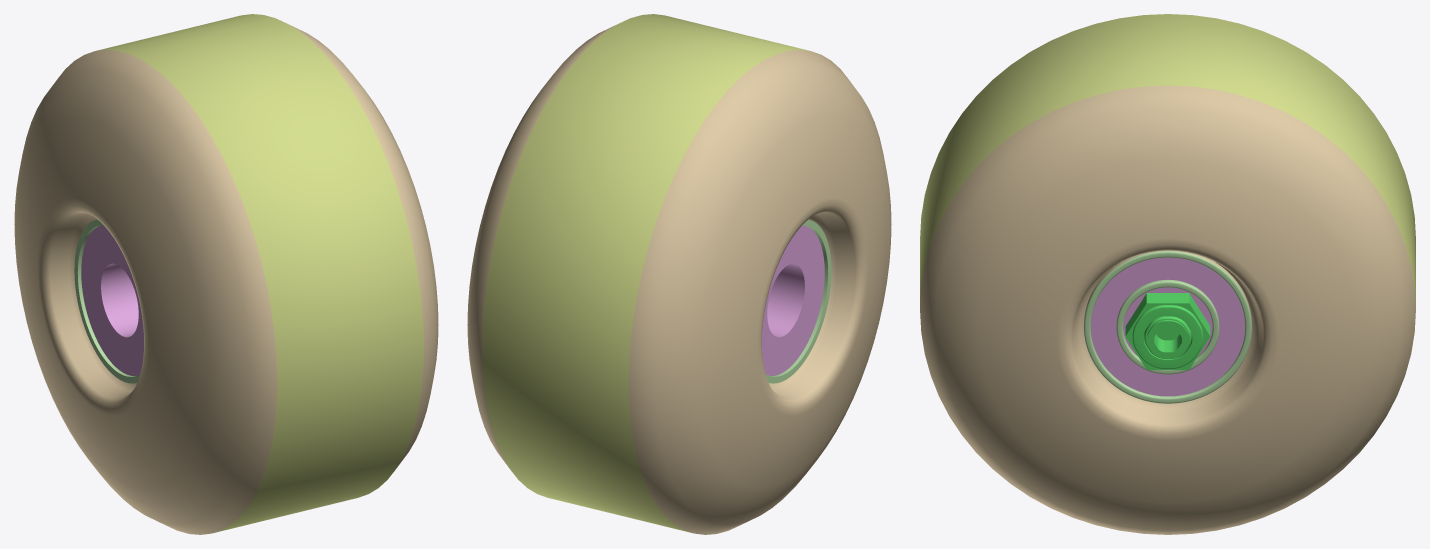
The model's file is wheel.fbx.
3 renders of one model, left to right at view 1: azimuth 30°, elevation 25°; view 2: azimuth 150°, elevation 25°; view 3: azimuth 270°, elevation 25°, orthographic.
Parts seen in each view (by area): view 1: Wheel; view 2: Wheel; view 3: Wheel.
Boxes of the visible parts, x1=… form: Wheel: x1=14, y1=14, x2=438, y2=534; Wheel: x1=467, y1=14, x2=891, y2=534; Wheel: x1=920, y1=14, x2=1415, y2=534.
Bounding box in the file's own units: 3.32 × 5.33 × 5.33.
